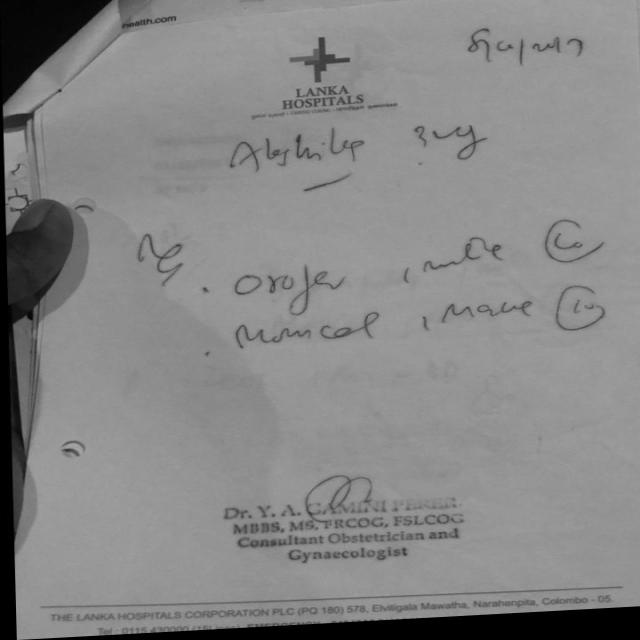Prescription: (220, 216, 610, 319), (226, 284, 607, 361)
